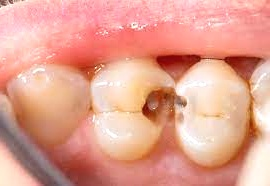Caries: (141, 81, 204, 123)
